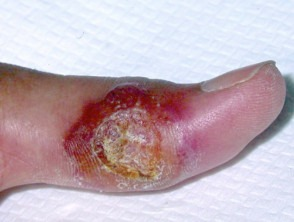Warts: (60, 81, 196, 188)
